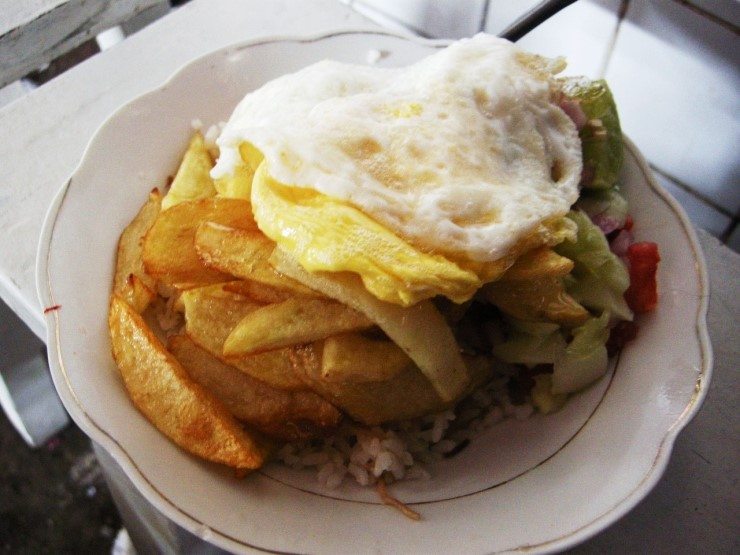fried egg: (244, 44, 588, 301)
